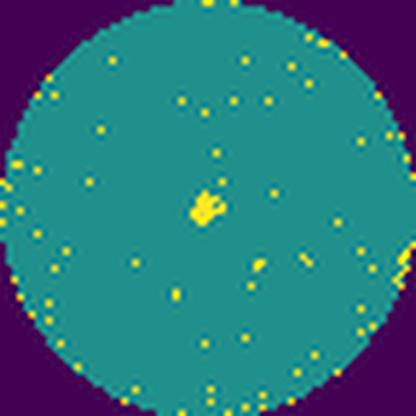Center: (195, 187, 227, 231)
